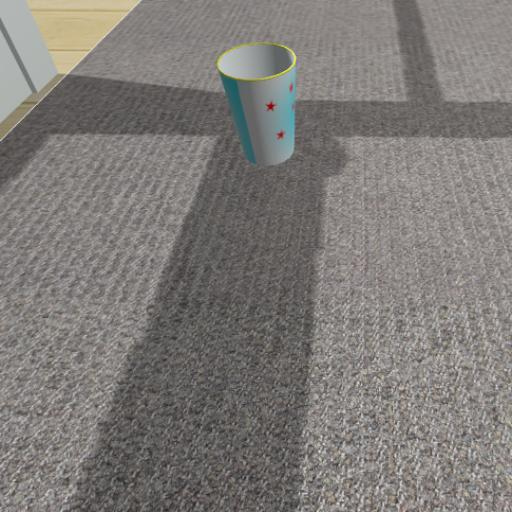Trash: (172, 20, 371, 216)
